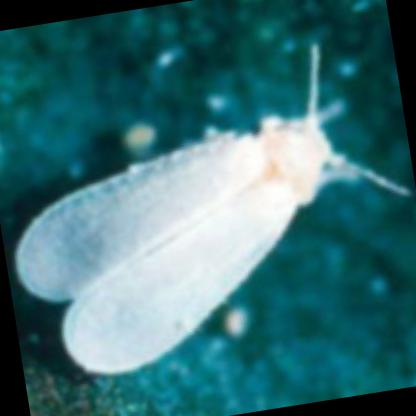whitefly: (15, 53, 409, 372)
